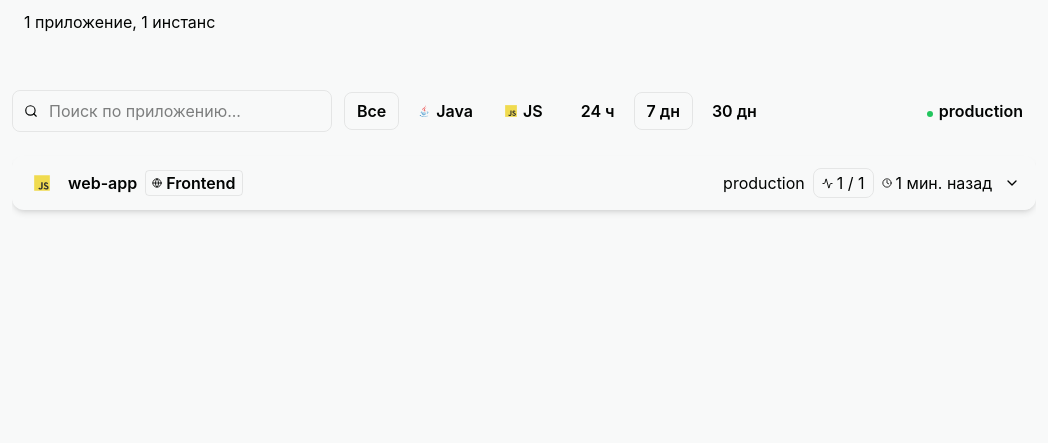
Test case: ClientInstances › marks the observed rate as approximate when the sample is small
The image size is (1048, 443).
Click the text "web-app" at (103, 183), box top-left (68, 171), bottom-right (137, 195)
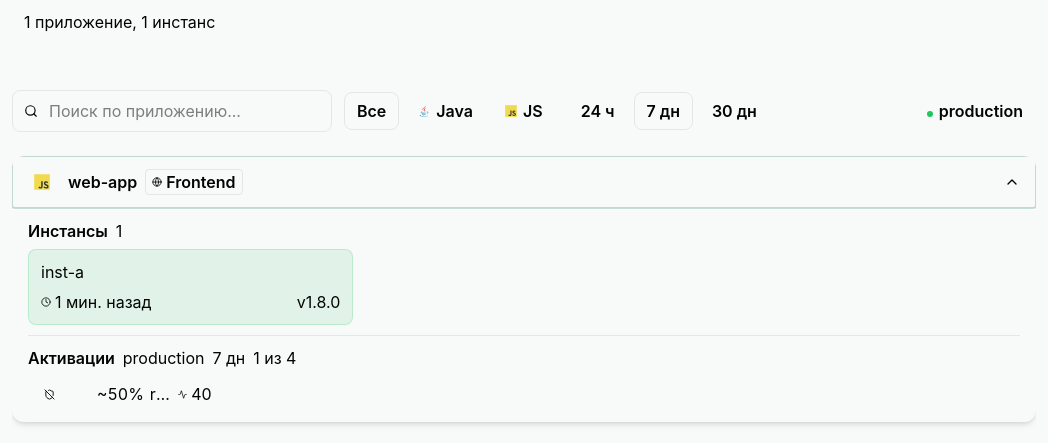
Expected: the text "~50%" is shown, top-left (97, 382), bottom-right (144, 406)
Expected: the element named "мало данных" is shown, top-left (97, 384), bottom-right (144, 404)
